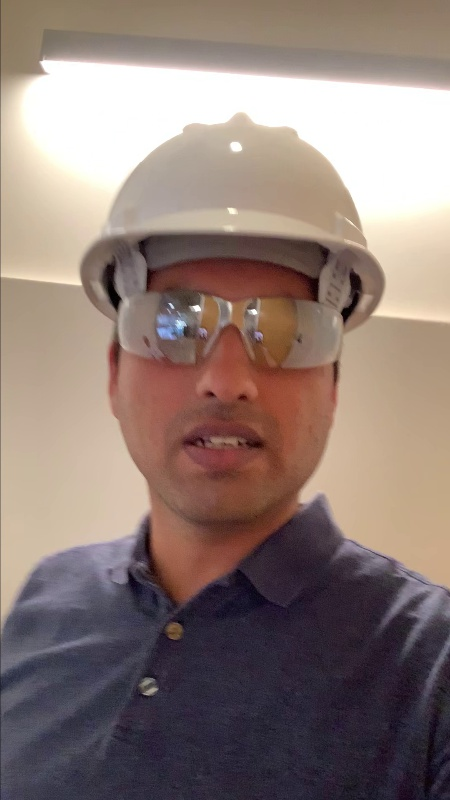glasses: (114, 284, 348, 383)
helmet: (68, 109, 391, 303)
